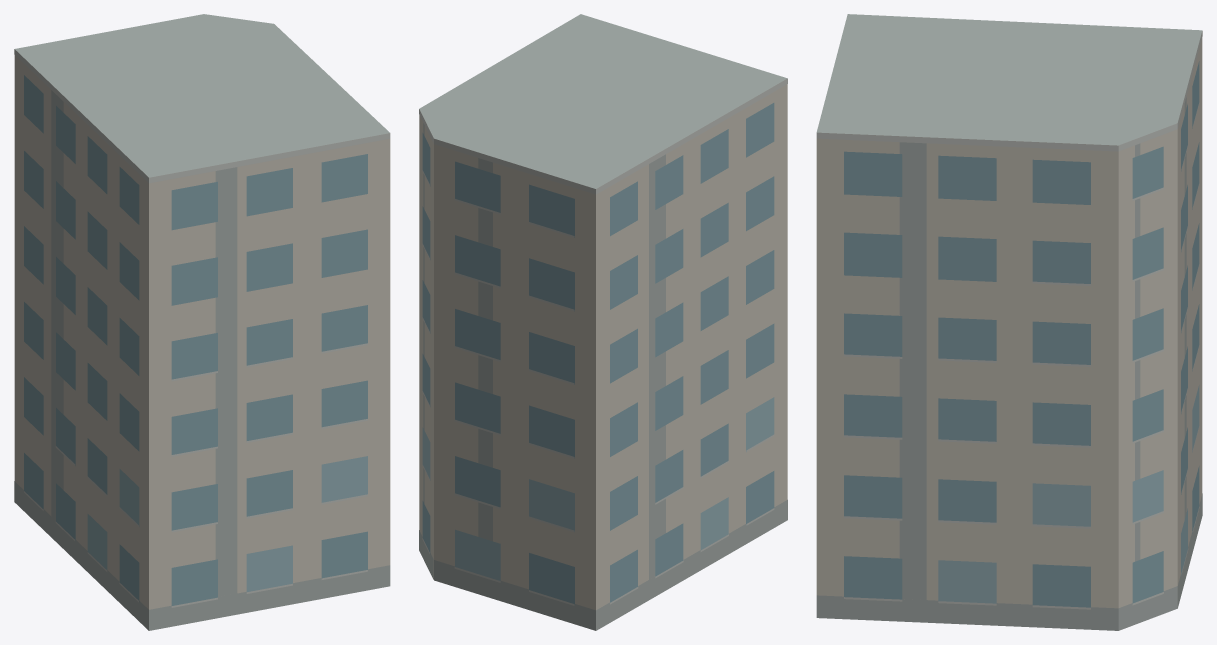
File: survey-upis-32945567.glb
3 views of the same model, side by side, from view 1: azimuth 30°, elevation 25°; view 2: azimuth 150°, elevation 25°; view 3: azimuth 270°, elevation 25° (orthographic). The views are drawn at different scales.
Visible parts, largest first — view 1: survey-upis-32945567.tmp; view 2: survey-upis-32945567.tmp; view 3: survey-upis-32945567.tmp.
Part boxes in pixels (box(x1,y1,x2,y2)): survey-upis-32945567.tmp: box(14, 14, 390, 630); survey-upis-32945567.tmp: box(419, 14, 787, 630); survey-upis-32945567.tmp: box(816, 14, 1202, 630).
Bounding box in the file's own units: 11.4 × 19.6 × 14.13.
